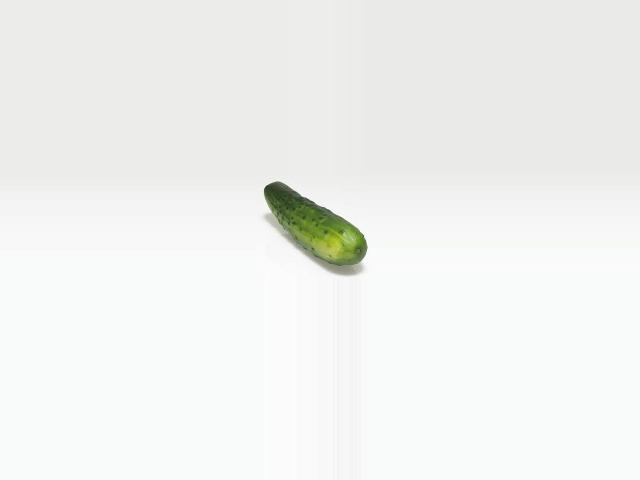cucumber: (263, 182, 366, 264)
